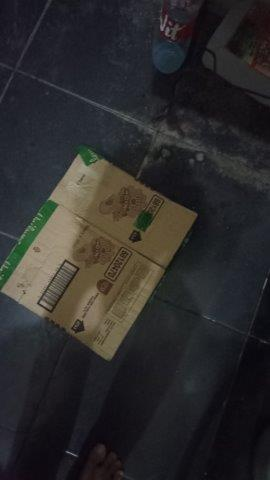kardus: (1, 151, 196, 358)
